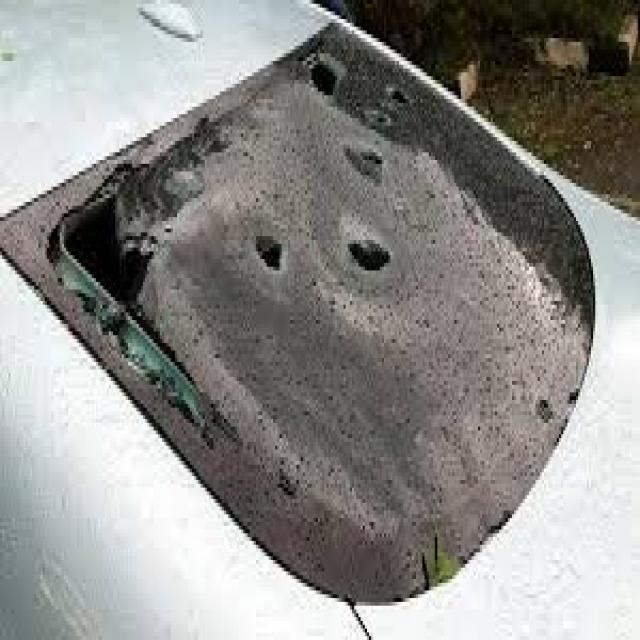minor: (14, 21, 608, 606)
